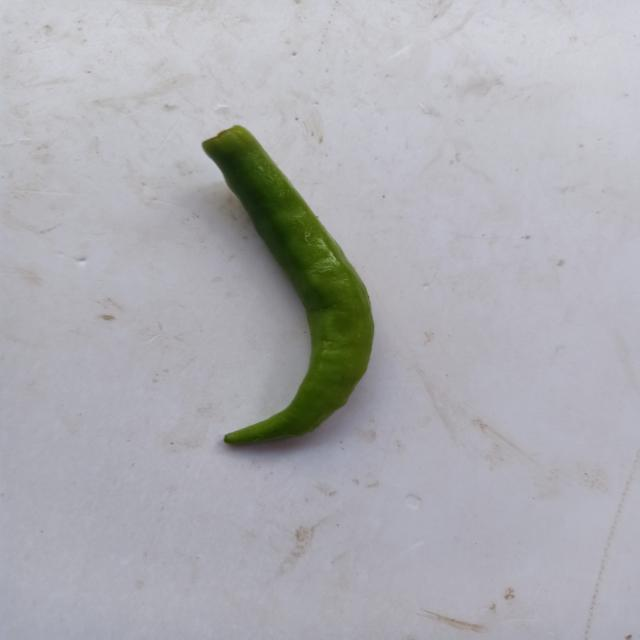Green Chilly: (202, 125, 374, 444)
